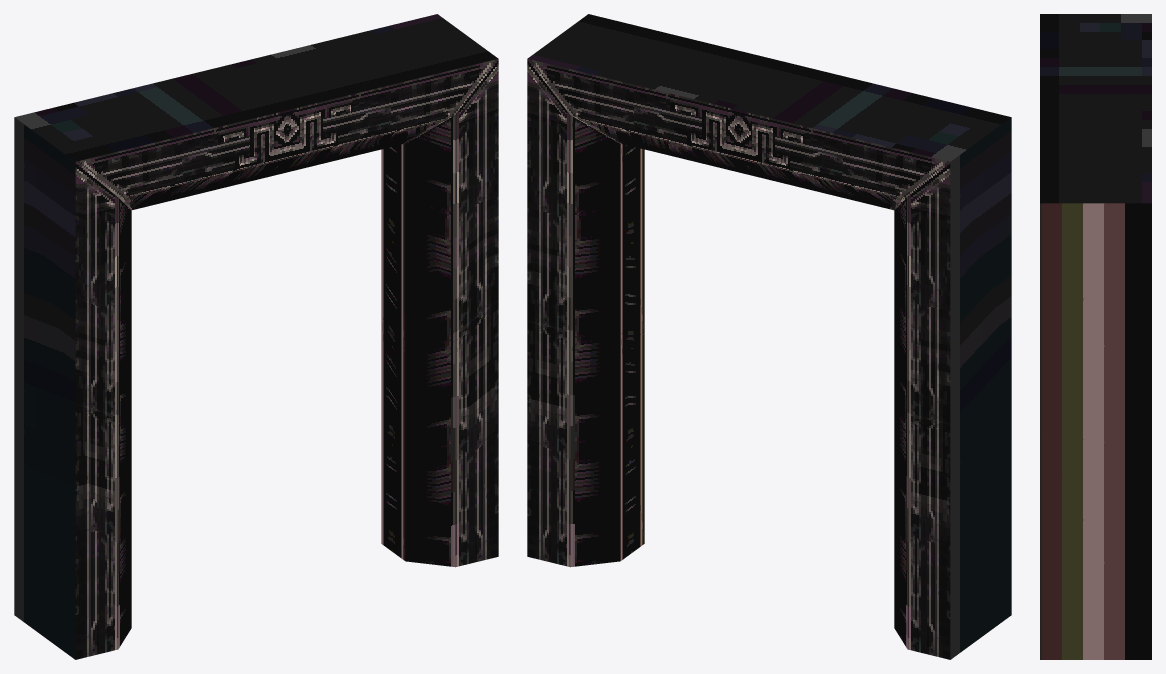
The model's file is SM_Door_Frame.gltf.
3 views of the same model, side by side, from view 1: azimuth 30°, elevation 25°; view 2: azimuth 150°, elevation 25°; view 3: azimuth 270°, elevation 25° (orthographic). The views are drawn at different scales.
Parts seen in each view (by area): view 1: SM_Door_Frame; view 2: SM_Door_Frame; view 3: SM_Door_Frame.
Boxes of the visible parts, bbox=[...] form: SM_Door_Frame: bbox=[14, 14, 498, 659]; SM_Door_Frame: bbox=[527, 14, 1011, 659]; SM_Door_Frame: bbox=[1040, 14, 1151, 659].
Bounding box in the file's own units: 8 × 9 × 2.
